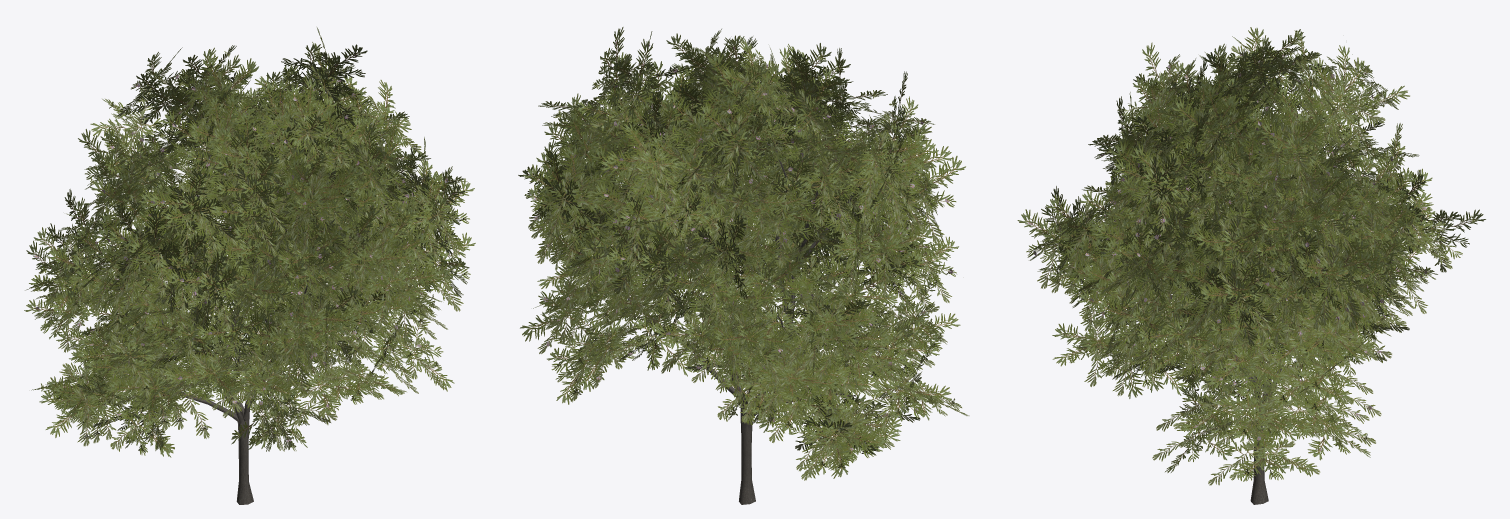
The model's file is Chilopsis_Linearis_Spring_Adult.glb.
3 views of the same model, side by side, from view 1: azimuth 30°, elevation 25°; view 2: azimuth 150°, elevation 25°; view 3: azimuth 270°, elevation 25° (orthographic). The views are drawn at different scales.
Parts seen in each view (by area): view 1: Chilopsis_Linearis_Spring_Adult__LOD3; view 2: Chilopsis_Linearis_Spring_Adult__LOD3; view 3: Chilopsis_Linearis_Spring_Adult__LOD3.
Part boxes in pixels (<box>): Chilopsis_Linearis_Spring_Adult__LOD3: <box>24,27,475,504</box>; Chilopsis_Linearis_Spring_Adult__LOD3: <box>518,27,969,504</box>; Chilopsis_Linearis_Spring_Adult__LOD3: <box>1017,27,1485,504</box>.
Bounding box in the file's own units: 6.46 × 6.7 × 6.36.
3 materials, 3 textured.
